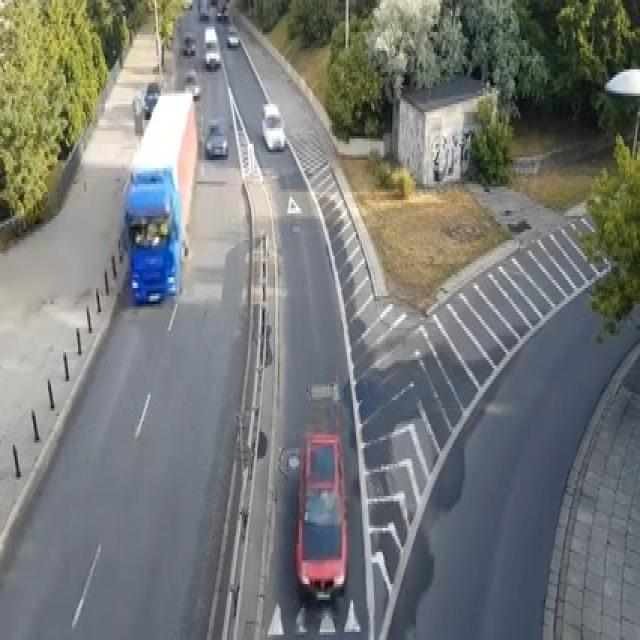car: (293, 429, 349, 600), (260, 102, 285, 150), (204, 120, 228, 157), (203, 24, 219, 69), (143, 80, 159, 117), (183, 69, 200, 99), (225, 24, 239, 48), (182, 32, 195, 53)
truck: (124, 88, 198, 304)
